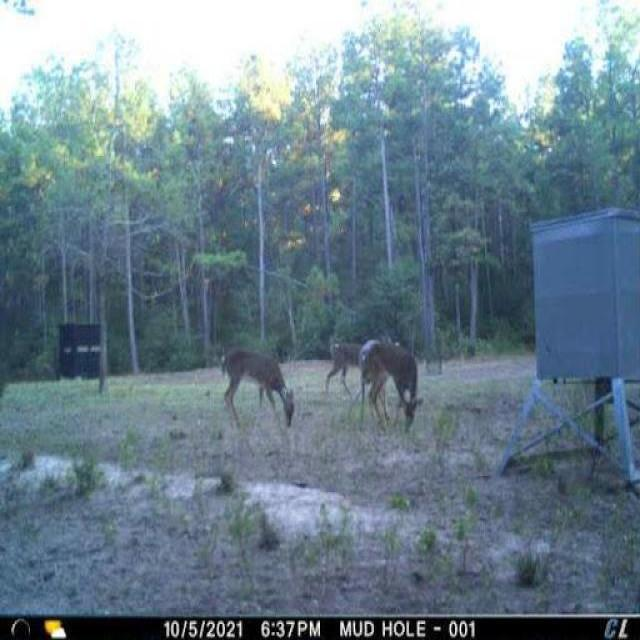deer: (219, 342, 300, 442), (352, 338, 427, 438), (321, 333, 371, 399)
